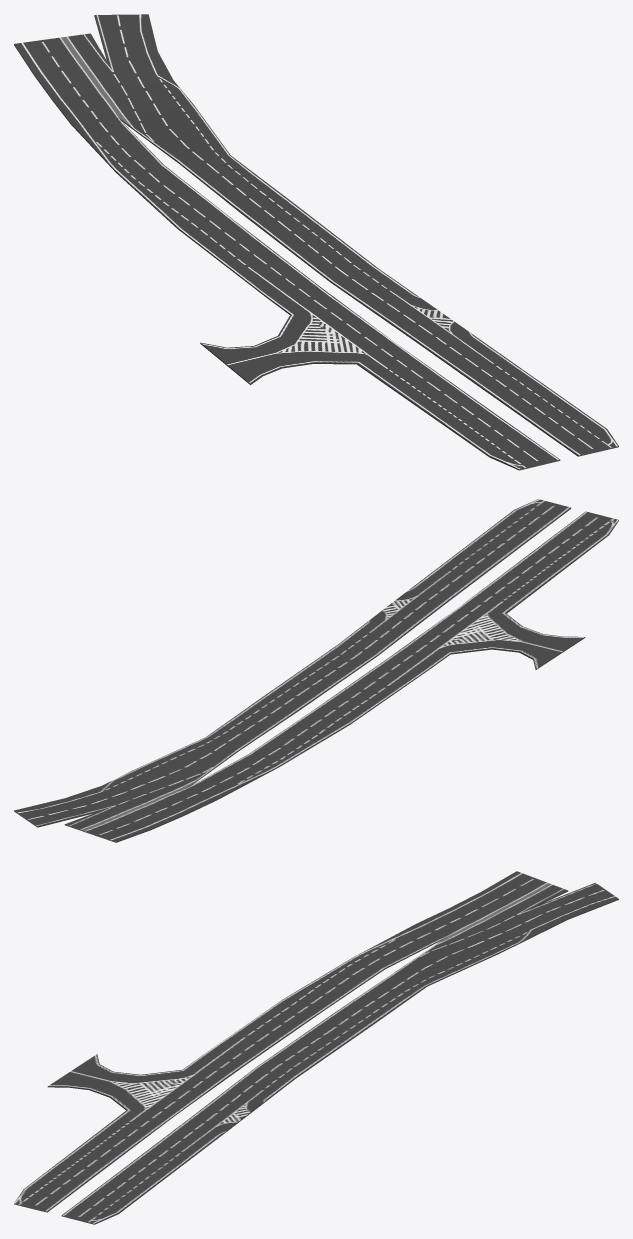
Rendered from krizovatka_bukovecka.fbx.
3 views of the same model, one above another, from view 1: azimuth 30°, elevation 25°; view 2: azimuth 150°, elevation 25°; view 3: azimuth 330°, elevation 25° (orthographic). The views are drawn at different scales.
Visible parts, largest first — view 1: krizovatka_bukovecka; view 2: krizovatka_bukovecka; view 3: krizovatka_bukovecka.
Part boxes in pixels (x1,y1,x2,y2): krizovatka_bukovecka: (14,14,618,470); krizovatka_bukovecka: (14,499,618,842); krizovatka_bukovecka: (14,871,618,1224).
Size of the model in its own units: 16971 by 5099 by 181.
